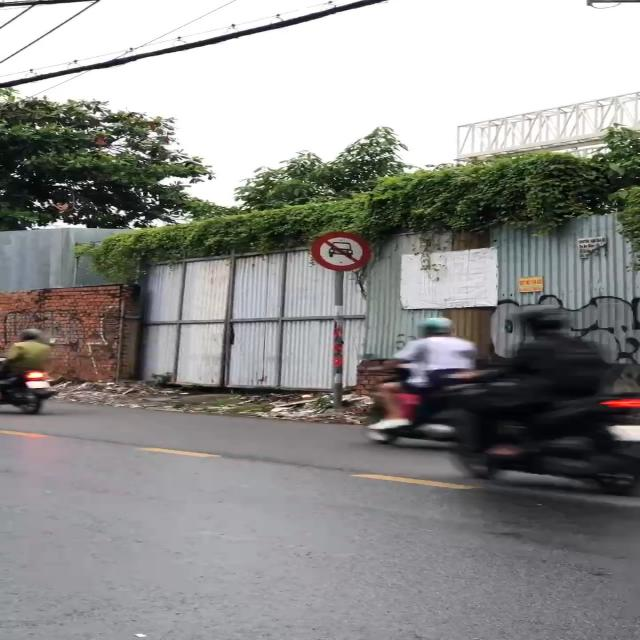Bien bao cam xe oto: (310, 231, 376, 271)
